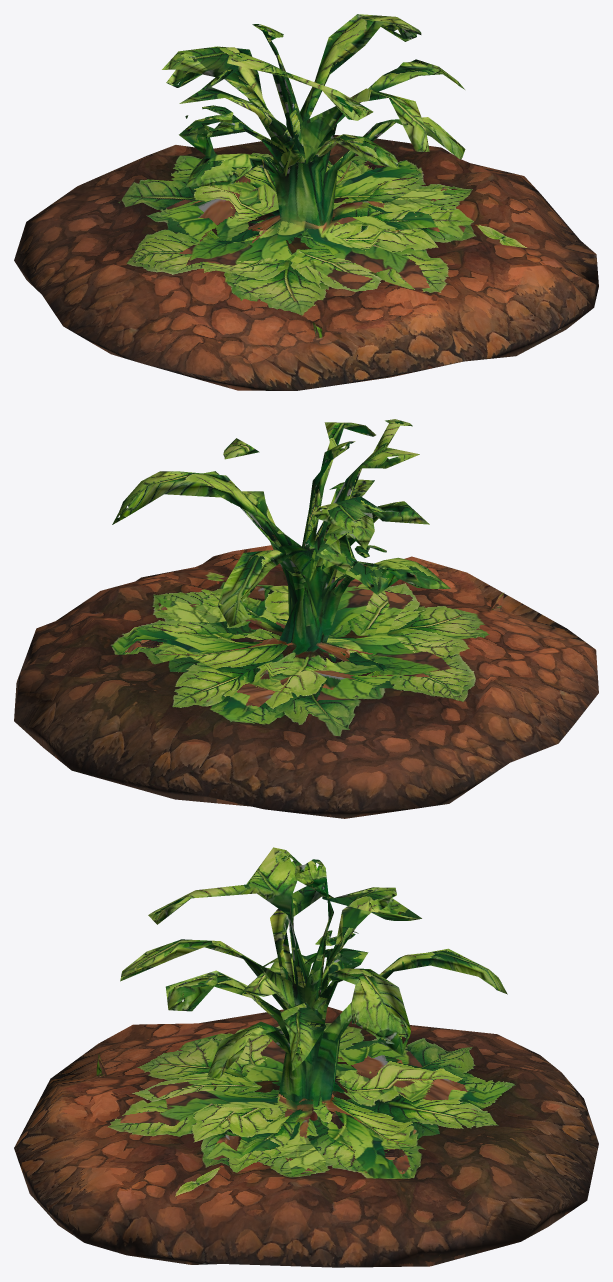
The model's file is Crop_Potato_Sprout.fbx.
3 views of the same model, one above another, from view 1: azimuth 30°, elevation 25°; view 2: azimuth 150°, elevation 25°; view 3: azimuth 270°, elevation 25° (orthographic). The views are drawn at different scales.
Visible parts, largest first — view 1: texture_mapping; view 2: texture_mapping; view 3: texture_mapping.
Part boxes in pixels (<box>): texture_mapping: <box>14,14,598,390</box>; texture_mapping: <box>14,419,598,818</box>; texture_mapping: <box>14,847,598,1267</box>.
Size of the model in its own units: 0.9888 by 0.9764 by 0.5077.
1 material, 1 textured.
